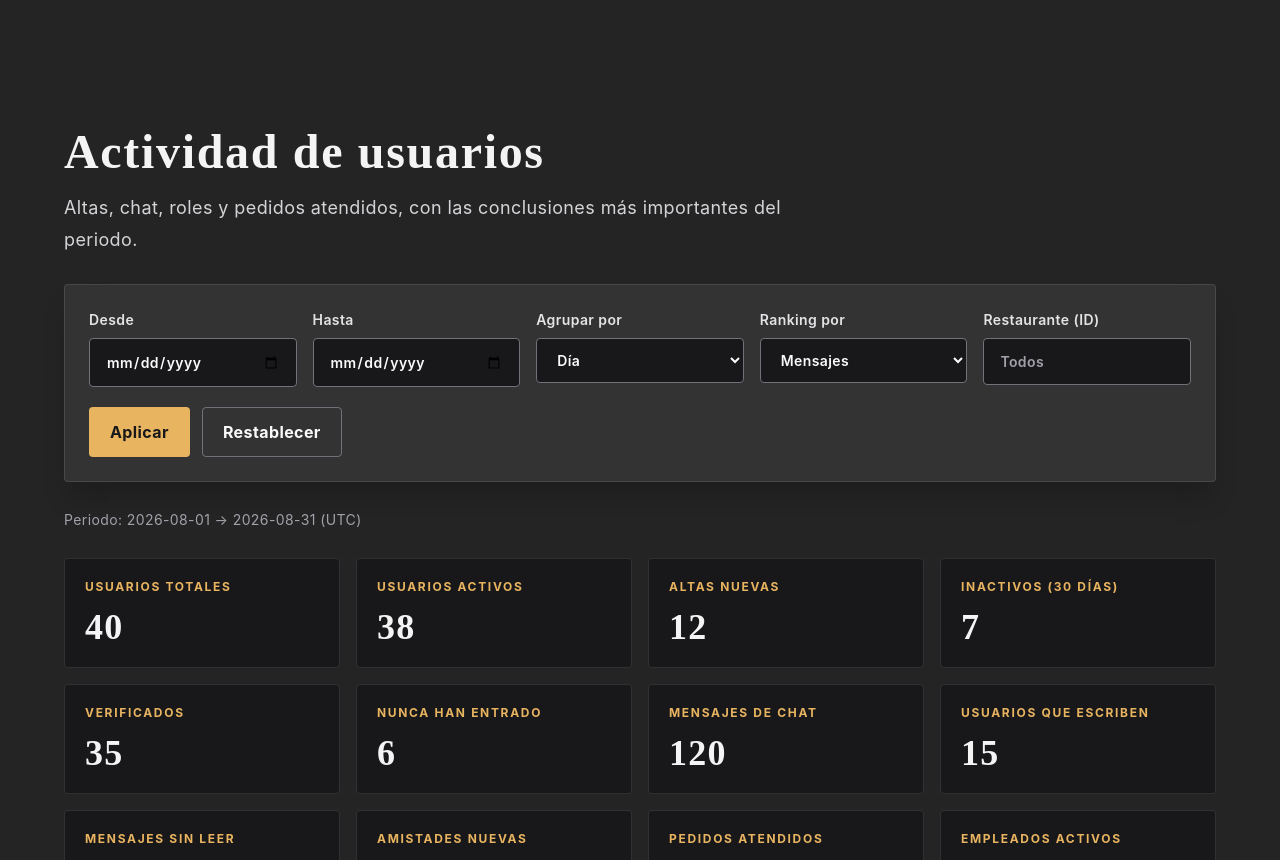
Scenario: UserActivityPage › rejects a restaurant ID that is not a positive integer
The image size is (1280, 860).
Expected: the text "Usuarios totales" is shown, [85,579,232,594]
In the field labelled "Restaurante (ID)": (1087, 362) [983,338,1191,385], type "0"
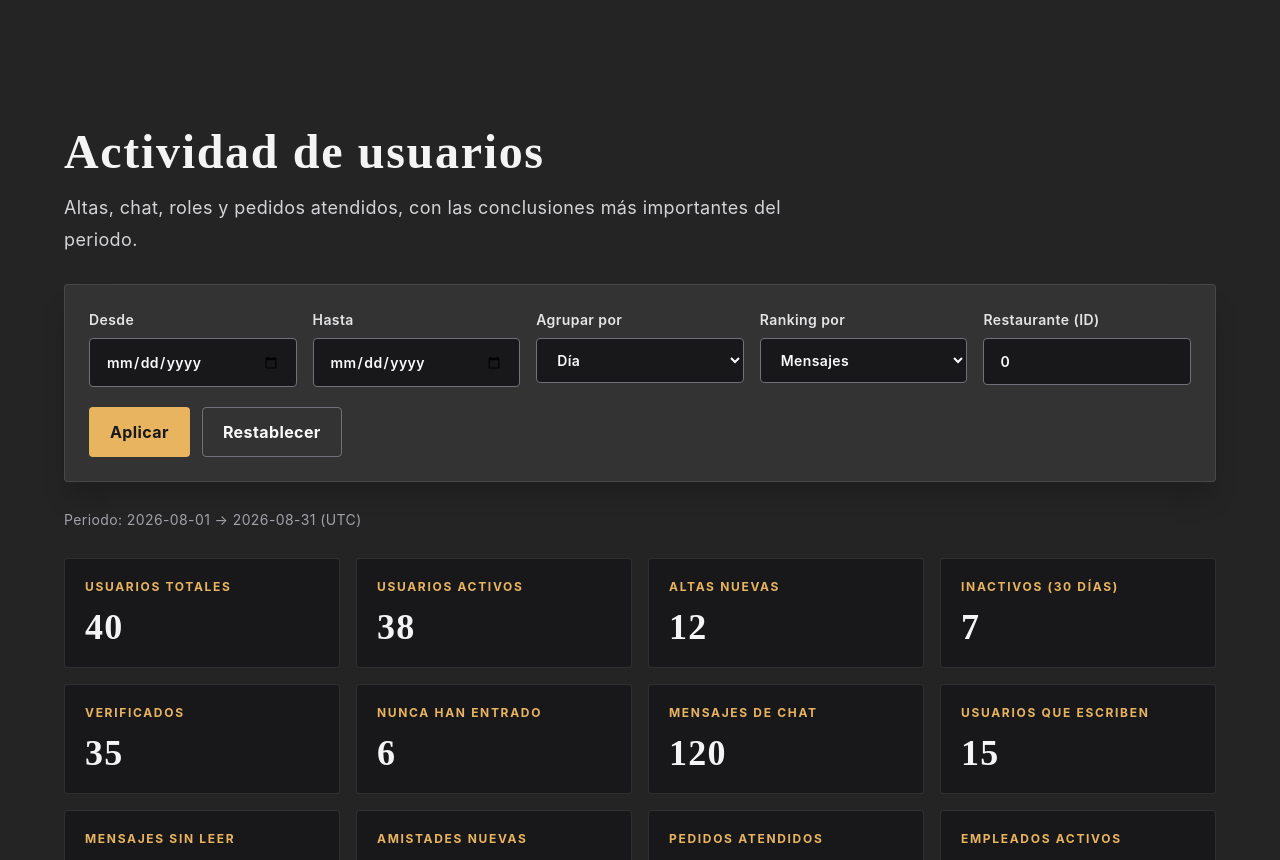
Click the button "Aplicar": click(139, 432) [89,407,190,457]
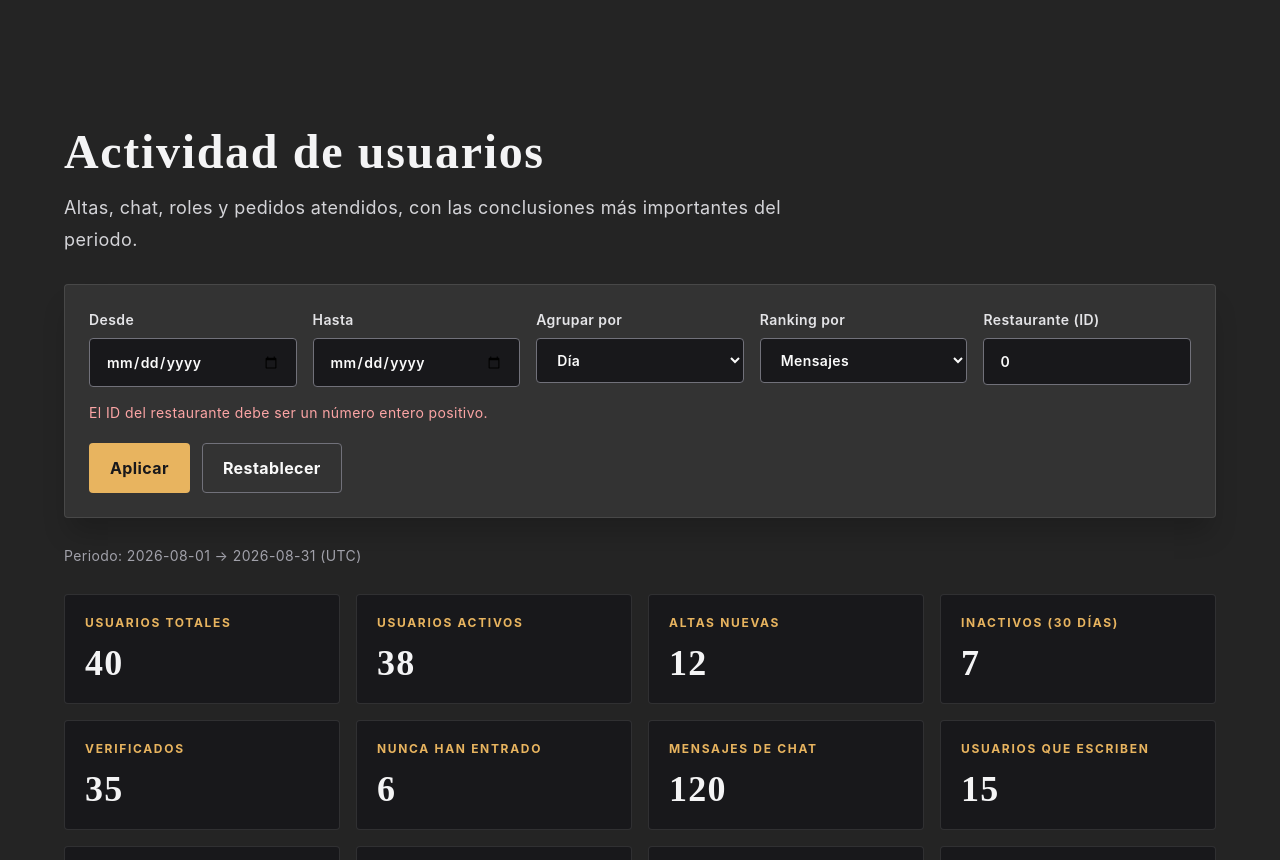
Expected: the message shows "entero positivo", [89,404,488,421]
